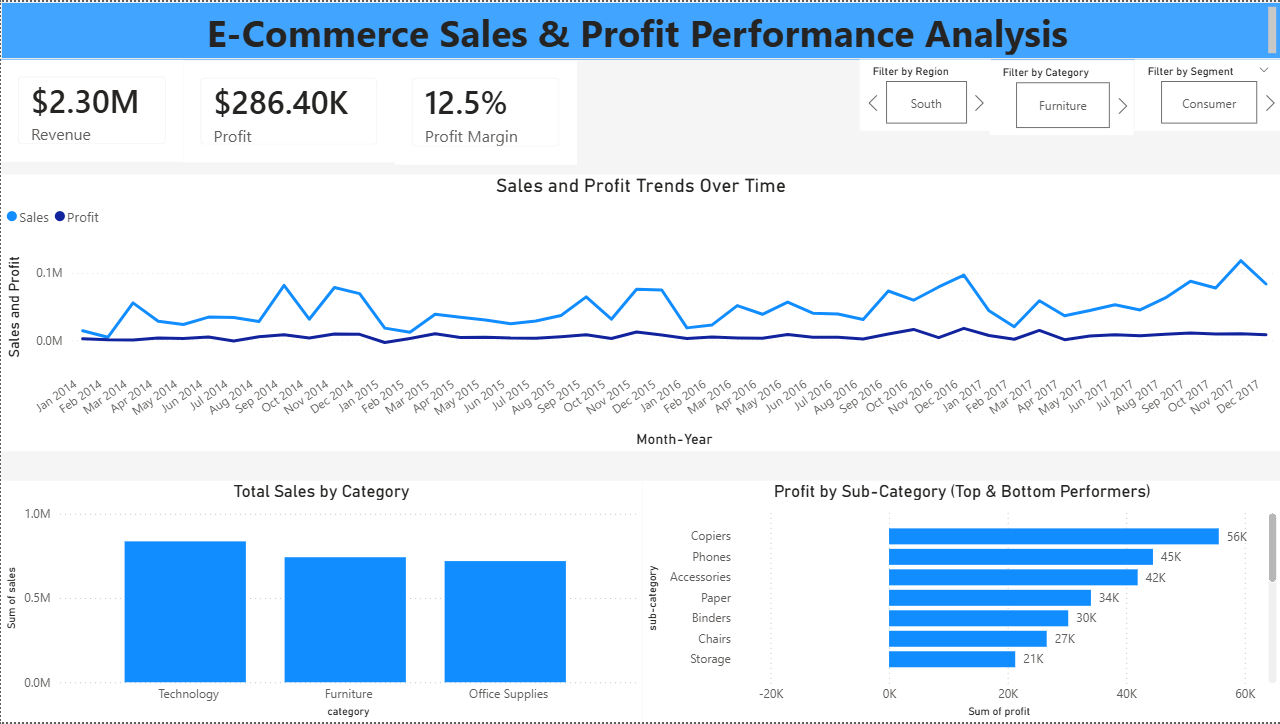

This screenshot's page, from the dashboard's own definition file:
{"tool":"powerbi","page":{"name":"Page 1","canvas":[1280,720],"ordinal":0},"visuals":[{"type":"cardVisual","fields":{"Data":["Sum(Sample - Superstore.sales)"]},"box":[0,57.5,182.2,102],"z":0},{"type":"cardVisual","fields":{"Data":["Sum(Sample - Superstore.profit)"]},"box":[182.2,58.7,211.6,100.3],"z":1000},{"type":"cardVisual","fields":{"Data":["Sample - Superstore.Profit Margin"]},"box":[393.8,58.7,199.3,100.3],"z":2000},{"type":"textbox","box":[0,0,1280.3,57.6],"z":3000},{"type":"lineChart","title":"Sales and Profit Trends Over Time","fields":{"Y":["Sum(Sample - Superstore.sales)","Sum(Sample - Superstore.profit)"],"Category":["Sample - Superstore.MonthYear"]},"box":[0,181,1280.3,277.6],"z":4000},{"type":"clusteredColumnChart","title":"Total Sales by Category","fields":{"Y":["Sum(Sample - Superstore.sales)"],"Category":["Sample - Superstore.category"]},"box":[0,478.9,640.8,241.5],"z":5000},{"type":"barChart","title":"Profit by Sub-Category (Top & Bottom Performers)","fields":{"Category":["Sample - Superstore.sub_category"],"Y":["Sum(Sample - Superstore.profit)"]},"box":[641.1,478.9,638.9,241.1],"z":6000},{"type":"slicer","fields":{"Values":["Sample - Superstore.region"]},"box":[858.4,57.5,130.8,75.8],"z":7000},{"type":"slicer","fields":{"Values":["Sample - Superstore.category"]},"box":[989.3,58.7,144.3,74.6],"z":8000},{"type":"slicer","fields":{"Values":["Sample - Superstore.segment"]},"box":[1133.6,57.5,146.7,75.8],"z":9000}]}

Visuals, with their boxes in screenshot pixels (x1, y1, x2, y2), scaled from the page's 1280x720 canvas onto the 1280x724 screenshot:
cardVisual - Sum(Sample - Superstore.sales): 0 58 182 160
cardVisual - Sum(Sample - Superstore.profit): 182 59 394 160
cardVisual - Sample - Superstore.Profit Margin: 394 59 593 160
textbox: 0 0 1279 58
"Sales and Profit Trends Over Time" lineChart: 0 182 1279 461
"Total Sales by Category" clusteredColumnChart: 0 482 641 723
"Profit by Sub-Category (Top & Bottom Performers)" barChart: 641 482 1279 723
slicer - Sample - Superstore.region: 858 58 989 134
slicer - Sample - Superstore.category: 989 59 1134 134
slicer - Sample - Superstore.segment: 1134 58 1279 134
